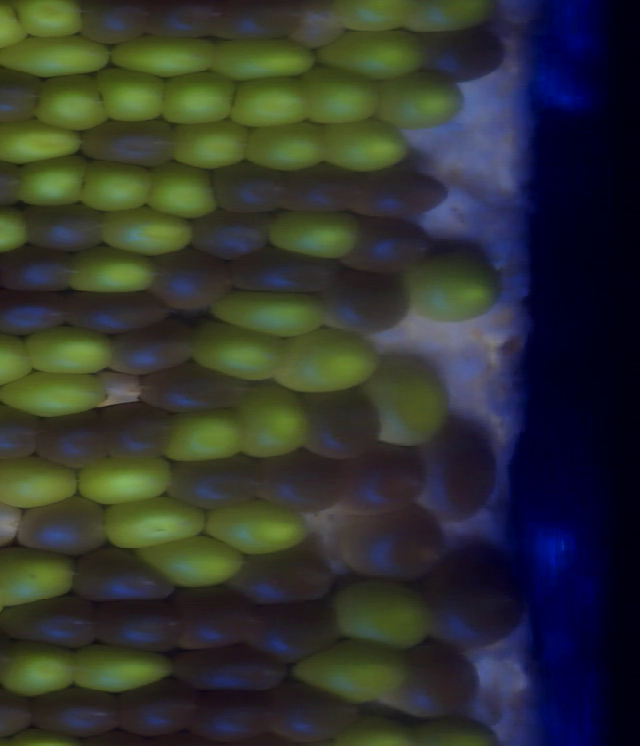fluorescent: (355, 349, 454, 452), (293, 633, 417, 708), (329, 572, 439, 651), (269, 324, 385, 398), (405, 241, 504, 322), (184, 313, 291, 385), (205, 287, 335, 344), (99, 492, 211, 558), (309, 25, 433, 84), (198, 495, 312, 559), (364, 65, 471, 133), (131, 530, 250, 591), (228, 380, 315, 462), (66, 639, 181, 699), (313, 111, 417, 174), (75, 446, 179, 509), (296, 59, 389, 129), (260, 204, 365, 266), (0, 364, 116, 420), (18, 319, 124, 379), (0, 30, 119, 82), (109, 31, 226, 82), (156, 404, 253, 465), (207, 33, 323, 84), (95, 202, 197, 259), (141, 156, 224, 224), (90, 59, 171, 128), (0, 540, 81, 609), (153, 66, 240, 129), (76, 155, 163, 218), (0, 449, 87, 512), (32, 69, 115, 135), (65, 243, 165, 297), (0, 634, 83, 699), (239, 118, 328, 177), (222, 73, 313, 128), (165, 115, 251, 173), (14, 152, 94, 210), (0, 119, 88, 167), (394, 1, 501, 39), (6, 1, 89, 44), (328, 1, 419, 37), (0, 327, 42, 391), (0, 199, 35, 257), (0, 1, 33, 55)
nonfluorescent: (416, 533, 533, 652), (335, 495, 454, 586), (419, 413, 506, 523), (382, 638, 493, 721), (292, 381, 394, 469), (64, 541, 185, 613), (247, 445, 356, 521), (257, 673, 370, 746), (331, 439, 436, 517), (161, 578, 265, 656), (246, 596, 356, 667), (232, 544, 345, 613), (165, 640, 295, 699), (165, 448, 272, 518), (320, 264, 419, 339), (89, 590, 195, 659), (0, 590, 110, 655), (409, 20, 515, 87), (13, 493, 117, 561), (144, 246, 244, 316), (137, 360, 255, 419), (22, 680, 132, 743), (108, 673, 207, 742), (338, 212, 441, 277), (349, 164, 458, 224), (74, 113, 182, 172), (91, 396, 183, 465), (182, 681, 286, 742), (232, 243, 347, 298), (101, 317, 204, 377), (27, 405, 121, 470), (60, 286, 179, 337), (206, 157, 295, 220), (184, 204, 282, 261), (17, 198, 111, 257), (274, 159, 369, 217), (204, 1, 310, 46), (0, 242, 85, 295), (0, 283, 79, 340), (75, 1, 161, 50), (0, 59, 51, 129), (144, 1, 223, 43), (0, 399, 49, 465), (0, 680, 46, 742), (0, 154, 35, 212)
